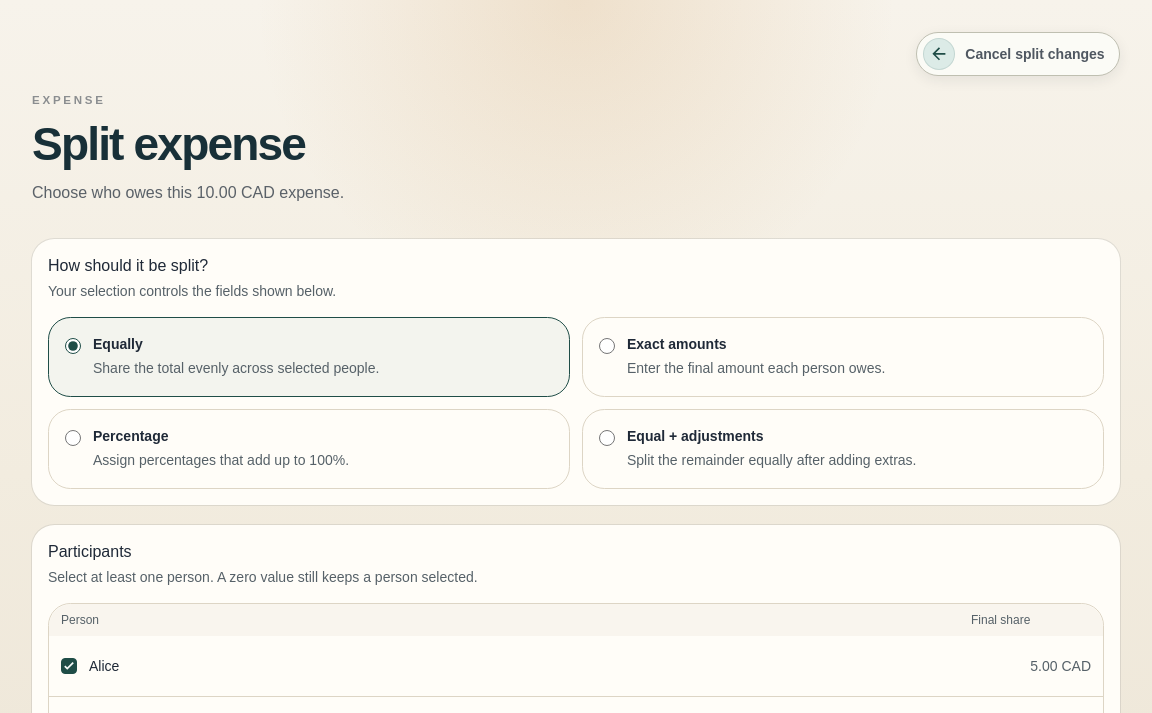
SplitExpensePage › focuses an error summary and reveals inline errors after failed save
Click the radio button labelled "Percentage Assign percentages that add up to 100%.": point(73, 438) [65,430,81,446]
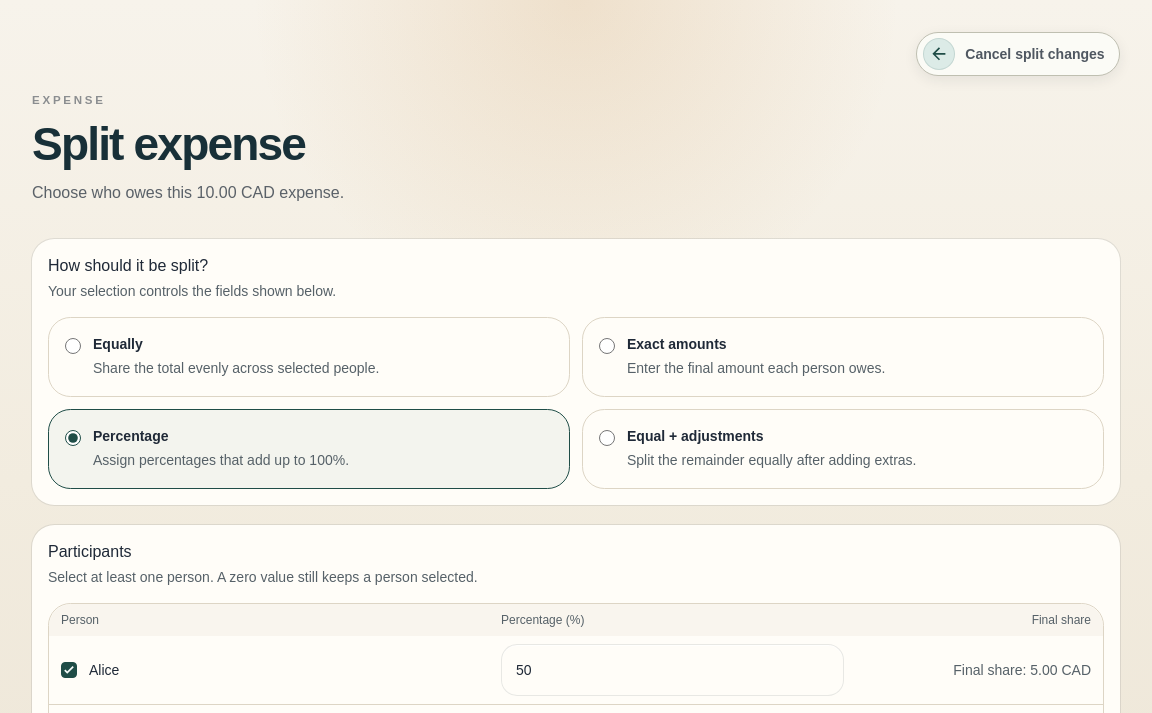
Replace the text in the number field named "Alice percentage (%)" in the row of "Alice" with "33.333": point(672, 670) [501,644,844,696]
(page scrolled)
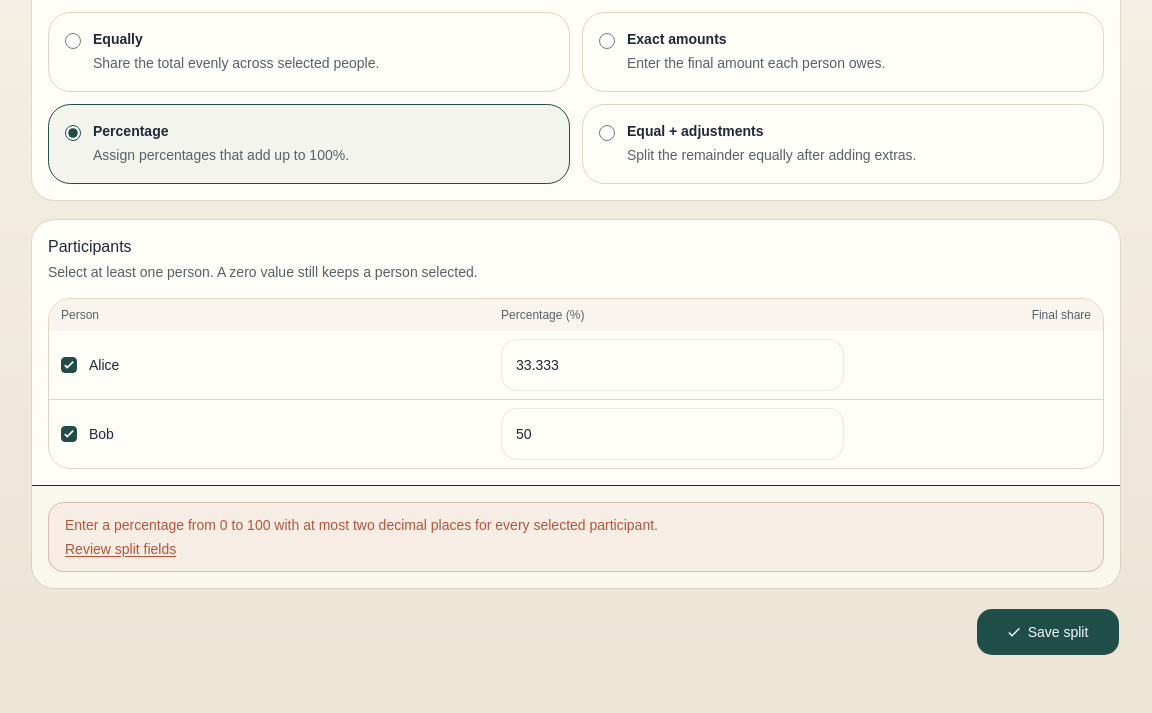
Click the button "Save split": point(1048, 632) [976,608,1120,656]
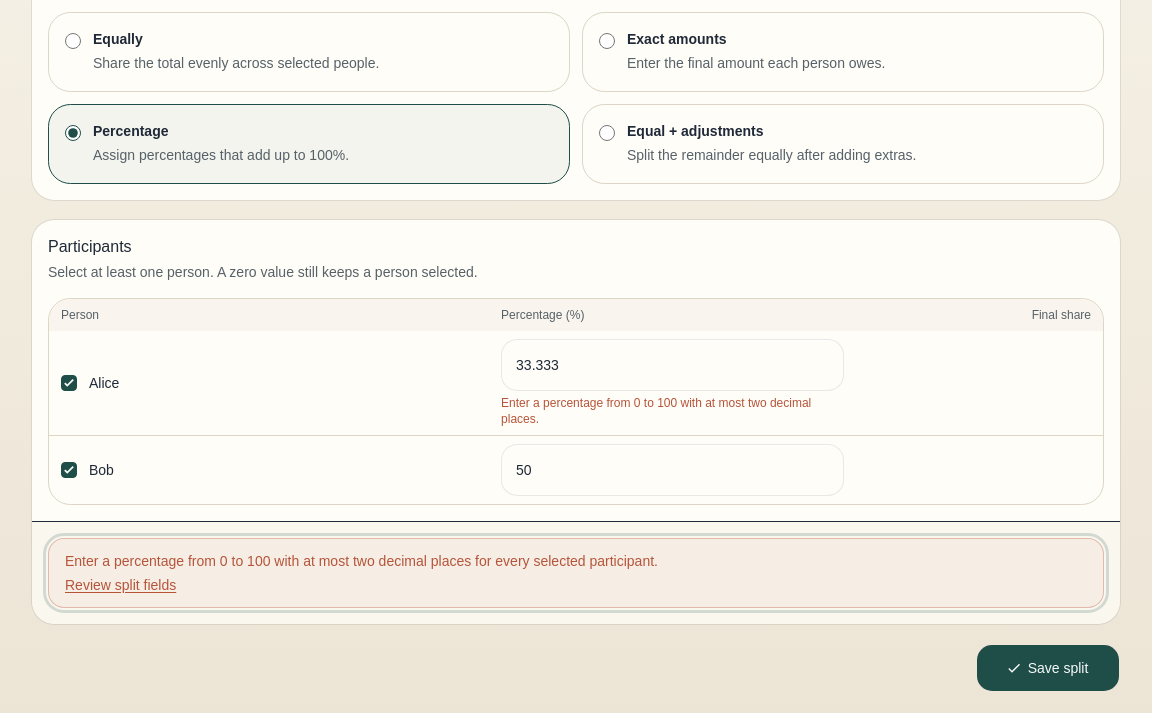
Expected: the text "at most two decimal places" is shown, [501,396,811,426]
